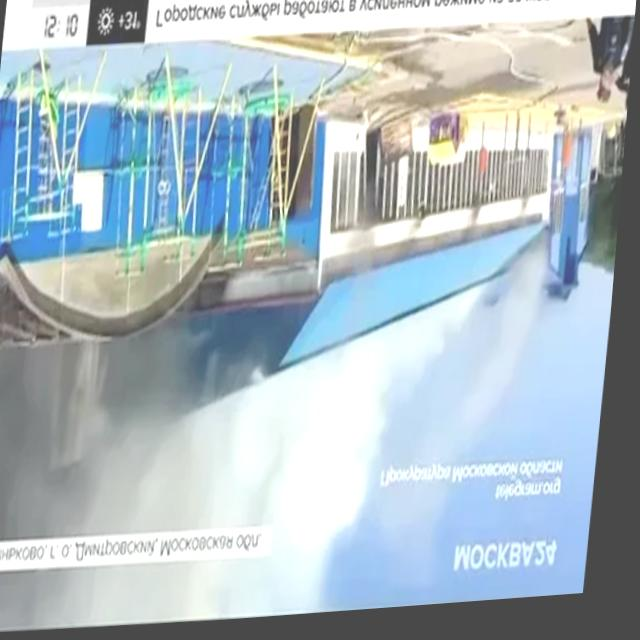Smoke: (0, 337, 386, 638)
